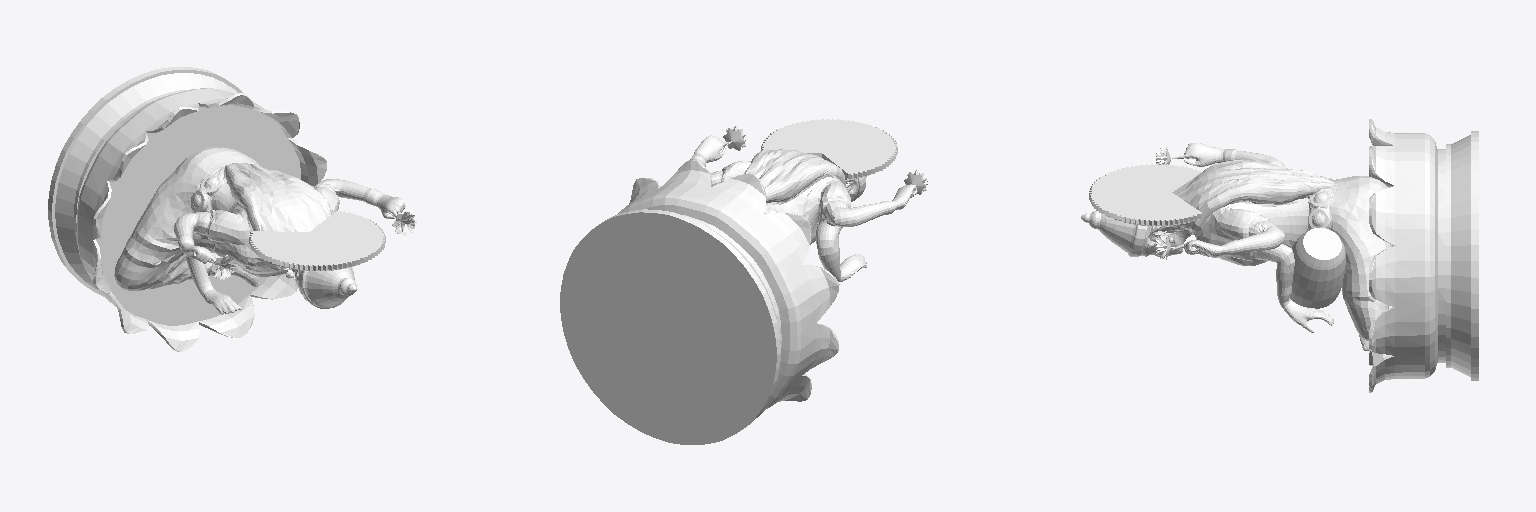
The model's file is Lakshmi.obj.
3 renders of one model, left to right at view 1: azimuth 30°, elevation 25°; view 2: azimuth 150°, elevation 25°; view 3: azimuth 270°, elevation 25°, orthographic.
Visible parts, largest first — view 1: Object.2, Object.1; view 2: Object.2, Object.1; view 3: Object.2, Object.1.
Part boxes in pixels (bbox=[...]): Object.2: bbox=[48, 67, 416, 351]; Object.1: bbox=[114, 147, 405, 314]; Object.2: bbox=[560, 119, 927, 444]; Object.1: bbox=[690, 135, 917, 281]; Object.2: bbox=[1089, 119, 1478, 392]; Object.1: bbox=[1081, 143, 1394, 350].
Bounding box in the file's own units: 100068 × 100068 × 147742.